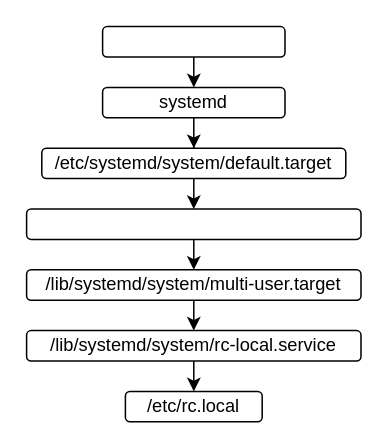
This 388x448 diagram has some shape labels left out. The centre of each missing label's shape, as x and y in pixels:
"/lib/systemd/system/graphical.target" belongs at (x=193, y=223).
"Linux Kernel" belongs at (x=193, y=41).
